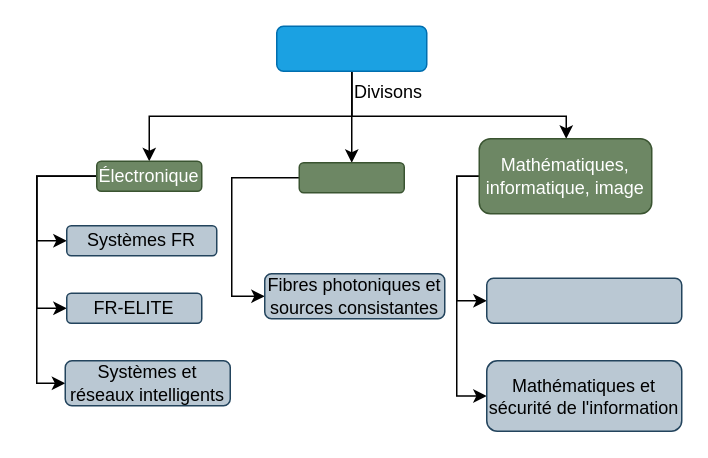
Some shapes in this 708 by 458 pixel diagram are drawn without their labels. The centre of each missing label's shape, as x and y in pixels:
Laboratoire XLIM: [351,48]
Photonique: [351,177]
Synthèse et analyse des images: [583,300]
